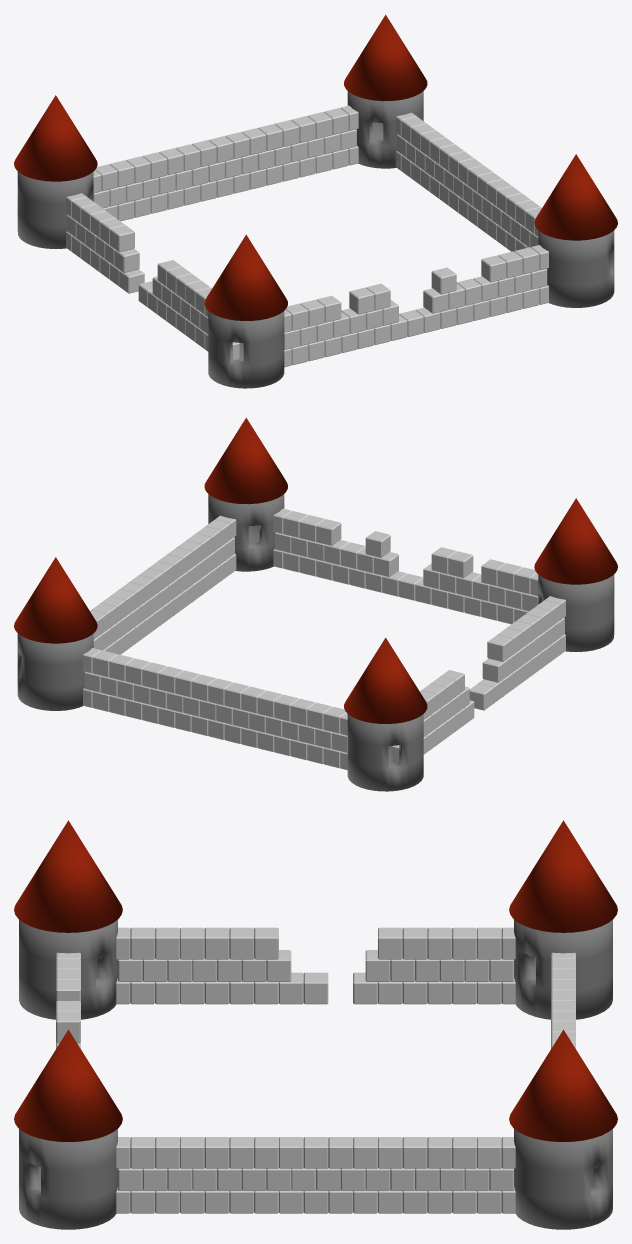
Rendered from castle.fbx.
3 views of the same model, one above another, from view 1: azimuth 30°, elevation 25°; view 2: azimuth 150°, elevation 25°; view 3: azimuth 270°, elevation 25° (orthographic). The views are drawn at different scales.
Parts seen in each view (by area): view 1: Tower, WallBlock.002, WallBlock, WallBlock.001, WallBlock.003; view 2: Tower, WallBlock.002, WallBlock, WallBlock.001, WallBlock.003; view 3: Tower, WallBlock.001, WallBlock.003, WallBlock.002, WallBlock.
Boxes of the visible parts, bbox=[...] form: Tower: bbox=[14, 14, 617, 388]; WallBlock.002: bbox=[93, 105, 358, 221]; WallBlock: bbox=[284, 245, 548, 367]; WallBlock.001: bbox=[395, 112, 541, 251]; WallBlock.003: bbox=[66, 193, 239, 360]; Tower: bbox=[14, 417, 617, 791]; WallBlock.002: bbox=[83, 648, 347, 770]; WallBlock: bbox=[273, 508, 538, 624]; WallBlock.001: bbox=[90, 515, 236, 654]; WallBlock.003: bbox=[392, 596, 565, 763]; Tower: bbox=[14, 820, 617, 1229]; WallBlock.001: bbox=[116, 1137, 515, 1213]; WallBlock.003: bbox=[116, 927, 515, 1004]; WallBlock.002: bbox=[551, 952, 575, 1048]; WallBlock: bbox=[56, 952, 80, 1048].
Bounding box in the file's own units: 24.4 × 8 × 24.4.
